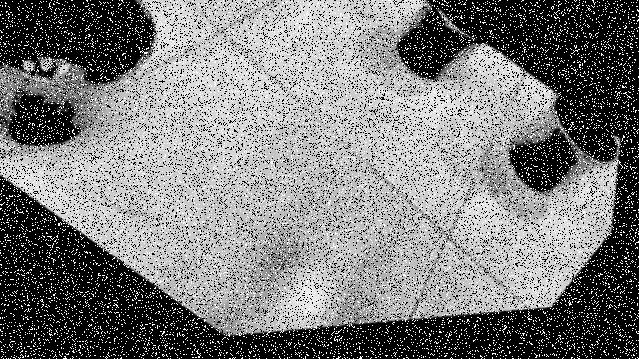pot: (0, 0, 155, 145), (507, 93, 619, 191)
